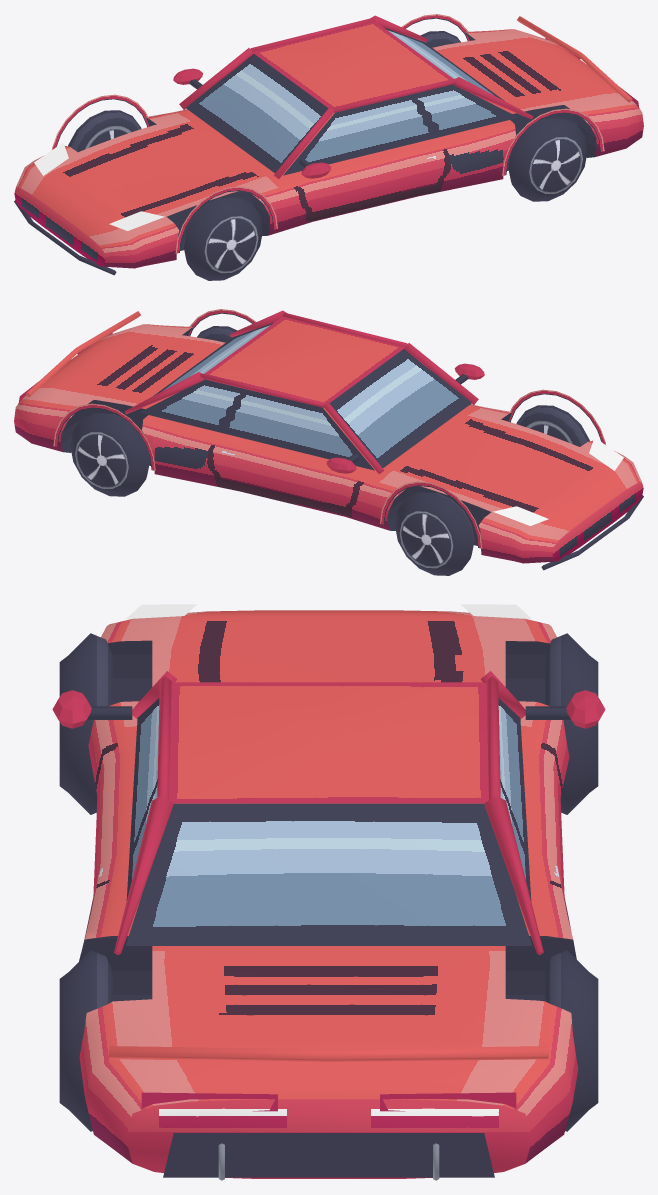
3 renders of one model, top to bottom at view 1: azimuth 30°, elevation 25°; view 2: azimuth 150°, elevation 25°; view 3: azimuth 270°, elevation 25°, orthographic. The views are drawn at different scales.
Parts seen in each view (by area): view 1: Body, Wheel_FL_tire_hub, Wheel_RL_tire_hub, Wheel_FR_tire_hub, Wheel_RR_tire_hub; view 2: Body, Wheel_FR_tire_hub, Wheel_RR_tire_hub, Wheel_FL_tire_hub, Wheel_RL_tire_hub; view 3: Body, Wheel_FL_tire_hub, Wheel_FR_tire_hub, Wheel_RR_tire_hub, Wheel_RL_tire_hub.
Boxes of the visible parts, x1,y1,x2,y2 form: Body: (14, 14, 643, 275); Wheel_FL_tire_hub: (183, 197, 262, 280); Wheel_RL_tire_hub: (508, 118, 587, 201); Wheel_FR_tire_hub: (68, 110, 141, 152); Wheel_RR_tire_hub: (420, 31, 460, 47); Body: (14, 309, 643, 570); Wheel_FR_tire_hub: (395, 492, 474, 575); Wheel_RR_tire_hub: (70, 413, 149, 496); Wheel_FL_tire_hub: (516, 405, 589, 446); Wheel_RL_tire_hub: (197, 326, 237, 342); Body: (52, 604, 605, 1180); Wheel_FL_tire_hub: (59, 633, 112, 814); Wheel_FR_tire_hub: (545, 633, 598, 814); Wheel_RR_tire_hub: (545, 950, 598, 1131); Wheel_RL_tire_hub: (59, 950, 112, 1131).
Bounding box in the file's own units: 81.98 × 18.61 × 35.93.
1 material, 1 textured.
